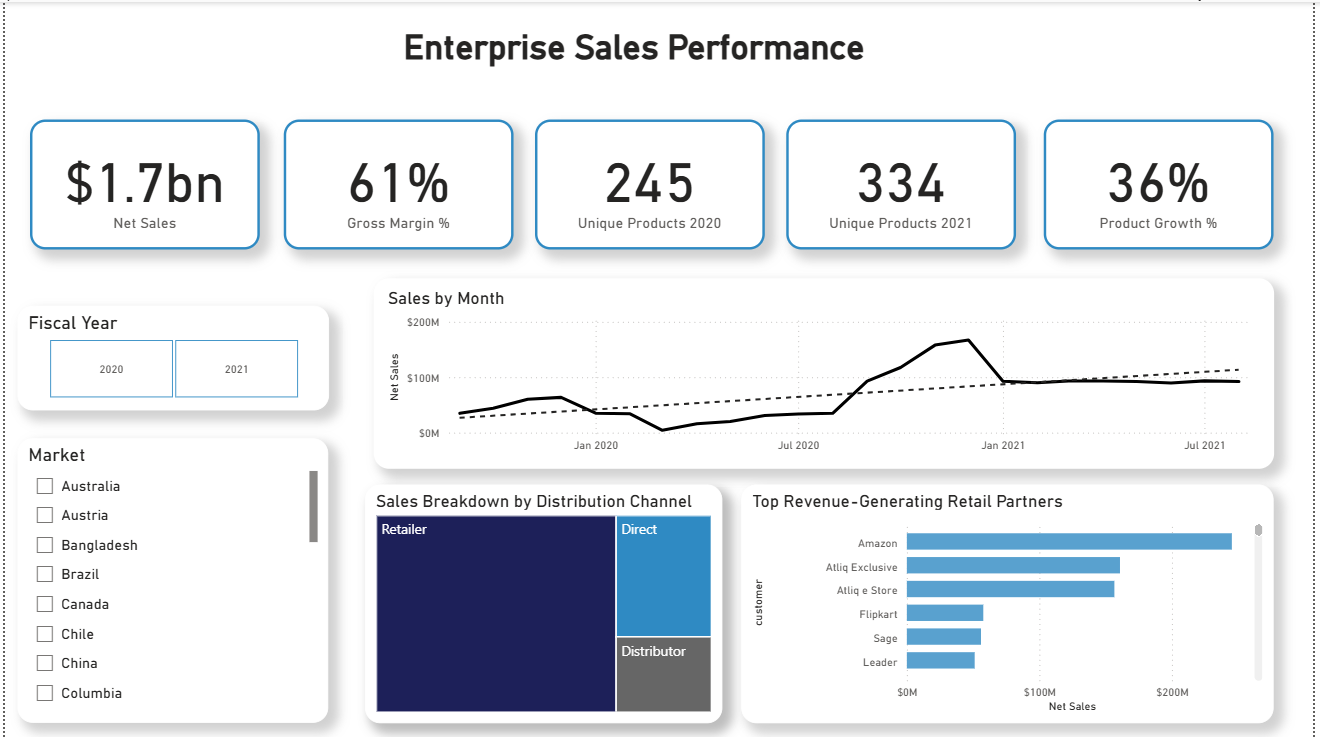

What the dashboard file says about the page in this screenshot:
{"tool":"powerbi","page":{"name":"Executive view","canvas":[1280,720],"ordinal":0},"visuals":[{"type":"card","title":"Gross Sales ","fields":{"Values":["Measures (2).Net Sales"]},"box":[24.5,114.9,225,127.2],"z":0},{"type":"card","title":"Gross Sales ","fields":{"Values":["Measures (2).Gross Margin %"]},"box":[272.7,114.9,225,127.2],"z":1000},{"type":"card","title":"Gross Sales ","fields":{"Values":["Measures (2).Unique Products 2020"]},"box":[518.5,114.9,225,127.2],"z":2000},{"type":"card","title":"Gross Sales ","fields":{"Values":["Measures (2).Unique Products 2021"]},"box":[764.3,114.9,225,127.2],"z":3000},{"type":"card","title":"Gross Sales ","fields":{"Values":["Measures (2).Product Growth %"]},"box":[1016.2,114.9,225,127.2],"z":4000},{"type":"lineChart","title":" Sales by Month ","fields":{"Y":["Measures (2).Net Sales"],"Category":["gdb023 fact_sales_monthly.date.Variation.Date Hierarchy.Year","gdb023 fact_sales_monthly.date.Variation.Date Hierarchy.Quarter","gdb023 fact_sales_monthly.date.Variation.Date Hierarchy.Month","gdb023 fact_sales_monthly.date.Variation.Date Hierarchy.Day"]},"box":[360.9,270.3,881,186.6],"z":5000},{"type":"treemap","title":"Sales Breakdown by Distribution Channel","fields":{"Group":["gdb023 dim_customer.channel"],"Values":["Measures (2).Net Sales"]},"box":[352.2,472,349.7,233.6],"z":6000},{"type":"textbox","box":[385.2,19.6,472,50.1],"z":7000},{"type":"clusteredBarChart","title":"Top Revenue-Generating Retail Partners","fields":{"Y":["Measures (2).Net Sales"],"Category":["gdb023 dim_customer.customer"]},"box":[720.2,472,520.9,233.6],"z":8000},{"type":"slicer","title":"Fiscal Year","fields":{"Values":["gdb023 fact_sales_monthly.fiscal_year"]},"box":[12.3,296.8,304.5,102.7],"z":9000},{"type":"slicer","title":"Market","fields":{"Values":["gdb023 dim_customer.market"]},"box":[12.4,427,304.1,278],"z":10000}]}

Visuals, with their boxes in screenshot pixels (x1, y1, x2, y2), scaled from the page's 1280x720 canvas onto the 1320x737 screenshot:
"Gross Sales " card: {"left": 25, "top": 118, "right": 257, "bottom": 248}
"Gross Sales " card: {"left": 281, "top": 118, "right": 513, "bottom": 248}
"Gross Sales " card: {"left": 535, "top": 118, "right": 767, "bottom": 248}
"Gross Sales " card: {"left": 788, "top": 118, "right": 1020, "bottom": 248}
"Gross Sales " card: {"left": 1048, "top": 118, "right": 1280, "bottom": 248}
" Sales by Month " lineChart: {"left": 372, "top": 277, "right": 1281, "bottom": 468}
"Sales Breakdown by Distribution Channel" treemap: {"left": 363, "top": 483, "right": 724, "bottom": 722}
textbox: {"left": 397, "top": 20, "right": 884, "bottom": 71}
"Top Revenue-Generating Retail Partners" clusteredBarChart: {"left": 743, "top": 483, "right": 1280, "bottom": 722}
"Fiscal Year" slicer: {"left": 13, "top": 304, "right": 327, "bottom": 409}
"Market" slicer: {"left": 13, "top": 437, "right": 326, "bottom": 722}
